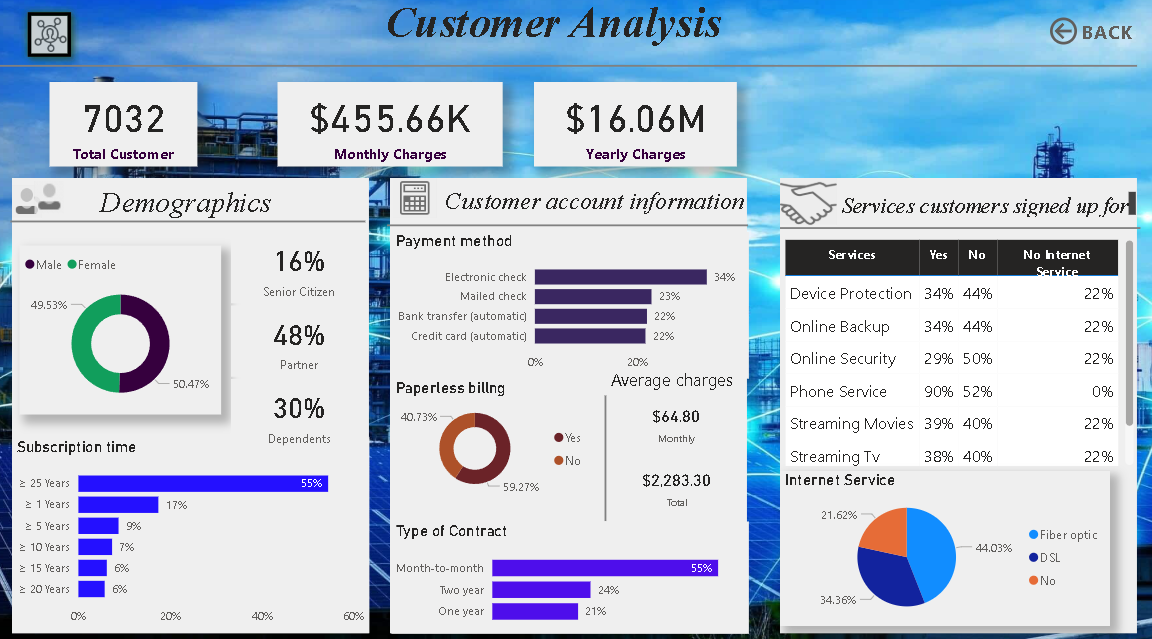

This screenshot's page, from the dashboard's own definition file:
{"tool":"powerbi","page":{"name":"Customer Analysis","canvas":[1280,720],"ordinal":2},"visuals":[{"type":"textbox","box":[94.4,0,1048.6,81.2],"z":0},{"type":"actionButton","box":[28.9,13.7,66,67.4],"z":1000},{"type":"shape","box":[1.4,71.5,1260.8,20.6],"z":2000},{"type":"card","fields":{"Values":["CountNonNull(Customer Data.Churn)"]},"box":[61.8,98.9,163.4,93.4],"z":3000},{"type":"card","fields":{"Values":["Sum(Customer Data.MonthlyCharges)"]},"box":[313.1,98.9,248.6,93.4],"z":4000},{"type":"card","fields":{"Values":["Sum(Customer Data.TotalCharges)"]},"box":[596.1,98.9,223.9,93.4],"z":5000},{"type":"shape","box":[19.2,204.6,394.2,502.7],"z":6000},{"type":"shape","box":[438.1,204.6,394.2,502.7],"z":7000},{"type":"shape","box":[868,204.6,394.2,502.7],"z":8000},{"type":"donutChart","fields":{"Category":["Customer Data.gender"],"Y":["CountNonNull(Customer Data.gender)"]},"box":[28.8,280.2,222.5,186.8],"z":9000},{"type":"card","fields":{"Values":["Customer Data.Avg Senior Citizen_Customer"]},"box":[261.2,265.3,149.9,78.4],"z":10000},{"type":"clusteredBarChart","title":"Subscription time","fields":{"Category":["Customer Data.tenure_group_3"],"Y":["Customer Data.Percentage of subscriber_customer"]},"box":[19.2,492.2,394.6,215.9],"z":11000},{"type":"card","fields":{"Values":["Customer Data.Avg Partner_customer"]},"box":[261.2,346.5,149.9,78.4],"z":12000},{"type":"card","fields":{"Values":["Customer Data.Avg Dependents_Customer"]},"box":[261.2,427.6,149.9,78.4],"z":13000},{"type":"actionButton","box":[19.2,213.1,33,35.7],"z":14000},{"type":"textbox","box":[78.4,209,268.1,60.5],"z":15000},{"type":"actionButton","box":[45.4,209,33,35.7],"z":16000},{"type":"shape","box":[17.9,244.7,391.8,16.5],"z":17000},{"type":"clusteredBarChart","title":"Payment method","fields":{"Category":["Customer Data.PaymentMethod"],"Y":["Customer Data.Percentage of payment Method_customer"]},"box":[438.6,265.3,394.6,162.2],"z":18000},{"type":"donutChart","title":"Paperless billng","fields":{"Category":["Customer Data.PaperlessBilling"],"Y":["CountNonNull(Customer Data.PaperlessBilling)"]},"box":[438.6,427.6,225.5,133.4],"z":19000},{"type":"shape","box":[664.1,445.5,22,138.9],"z":20000},{"type":"textbox","box":[675.1,409.7,171.9,35.7],"z":21000},{"type":"card","fields":{"Values":["Avg(Customer Data.MonthlyCharges)"]},"box":[684.7,445.5,137.5,60.5],"z":22000},{"type":"card","fields":{"Values":["Avg(Customer Data.TotalCharges)"]},"box":[686.1,508.7,136.1,75.6],"z":23000},{"type":"clusteredBarChart","title":"Type of Contract","fields":{"Category":["Customer Data.Contract"],"Y":["Customer Data.Percentage of Contract_Customer"]},"box":[438.6,584.3,394.6,123.7],"z":24000},{"type":"shape","box":[434.5,250.2,398.7,15.1],"z":25000},{"type":"textbox","box":[489.5,209,349.2,44],"z":26000},{"type":"actionButton","box":[441.3,204.9,48.1,44],"z":27000},{"type":"tableEx","fields":{"Values":["percentage of Customers' services.Services","Sum(percentage of Customers' services.Yes)","Sum(percentage of Customers' services.No)","Sum(percentage of Customers' services.No Internet Service)"]},"box":[868.3,268.9,395.6,259.3],"z":28000},{"type":"pieChart","title":" Internet Service","fields":{"Category":["Customer Data.InternetService"],"Y":["CountNonNull(Customer Data.InternetService)"]},"box":[868.3,528.2,364.2,171.3],"z":29000},{"type":"shape","box":[868.3,253.3,398,14.5],"z":30000},{"type":"textbox","box":[931.1,214.7,335.3,37.4],"z":31000},{"type":"actionButton","box":[868.3,205,62.7,51.9],"z":32000},{"type":"actionButton","box":[1161.4,22.9,100.1,39.8],"z":33000}]}

Visuals, with their boxes in screenshot pixels (x1, y1, x2, y2), scaled from the page's 1280x720 canvas onto the 1152x639 screenshot:
textbox: select_region(85, 0, 1029, 72)
actionButton: select_region(26, 12, 85, 72)
shape: select_region(1, 63, 1136, 82)
card - CountNonNull(Customer Data.Churn): select_region(56, 88, 203, 171)
card - Sum(Customer Data.MonthlyCharges): select_region(282, 88, 506, 171)
card - Sum(Customer Data.TotalCharges): select_region(536, 88, 738, 171)
shape: select_region(17, 182, 372, 628)
shape: select_region(394, 182, 749, 628)
shape: select_region(781, 182, 1136, 628)
donutChart - Customer Data.gender x CountNonNull(Customer Data.gender): select_region(26, 249, 226, 414)
card - Customer Data.Avg Senior Citizen_Customer: select_region(235, 235, 370, 305)
"Subscription time" clusteredBarChart: select_region(17, 437, 372, 628)
card - Customer Data.Avg Partner_customer: select_region(235, 308, 370, 377)
card - Customer Data.Avg Dependents_Customer: select_region(235, 379, 370, 449)
actionButton: select_region(17, 189, 47, 221)
textbox: select_region(71, 185, 312, 239)
actionButton: select_region(41, 185, 71, 217)
shape: select_region(16, 217, 369, 232)
"Payment method" clusteredBarChart: select_region(395, 235, 750, 379)
"Paperless billng" donutChart: select_region(395, 379, 598, 498)
shape: select_region(598, 395, 617, 519)
textbox: select_region(608, 364, 762, 395)
card - Avg(Customer Data.MonthlyCharges): select_region(616, 395, 740, 449)
card - Avg(Customer Data.TotalCharges): select_region(617, 451, 740, 519)
"Type of Contract" clusteredBarChart: select_region(395, 519, 750, 628)
shape: select_region(391, 222, 750, 235)
textbox: select_region(441, 185, 755, 225)
actionButton: select_region(397, 182, 440, 221)
tableEx - percentage of Customers' services.Services x Sum(percentage of Customers' services.Yes): select_region(781, 239, 1138, 469)
" Internet Service" pieChart: select_region(781, 469, 1109, 621)
shape: select_region(781, 225, 1140, 238)
textbox: select_region(838, 191, 1140, 224)
actionButton: select_region(781, 182, 838, 228)
actionButton: select_region(1045, 20, 1135, 56)
